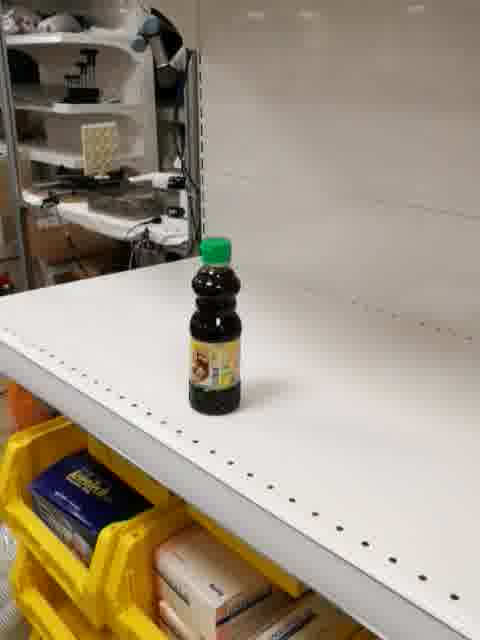cookingoil: (189, 236, 243, 418)
